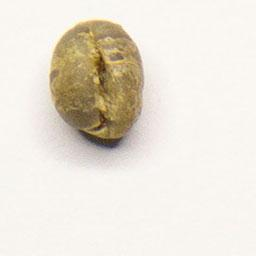peaberry: (47, 17, 147, 144)
